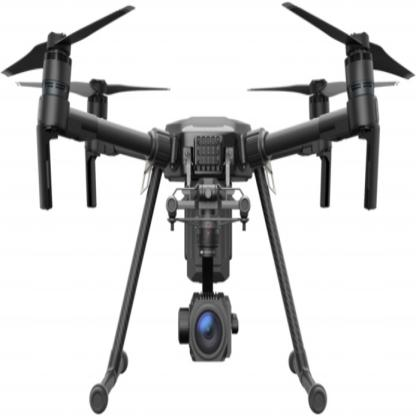drone: (6, 8, 412, 246)
